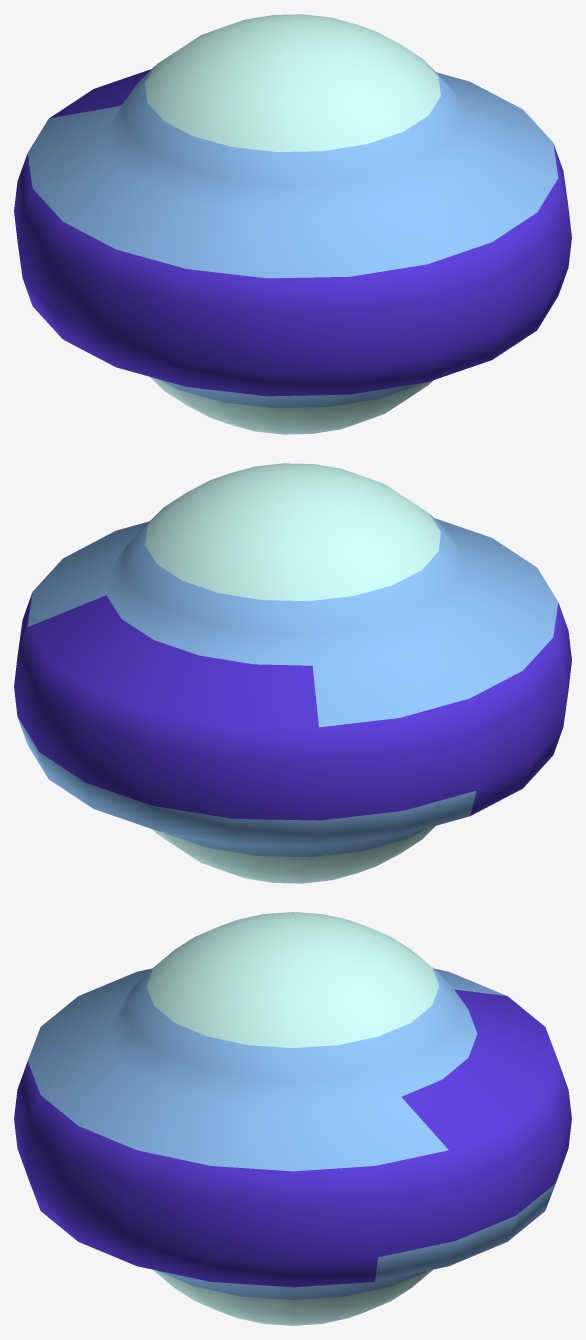
File: explosion.fbx
The picture shows the model from 3 angles, top to bottom: view 1: azimuth 30°, elevation 25°; view 2: azimuth 150°, elevation 25°; view 3: azimuth 270°, elevation 25°; orthographic projection.
Visible parts, largest first — view 1: pSphere1; view 2: pSphere1; view 3: pSphere1.
Boxes of the visible parts, <box> form: pSphere1: <box>14,14,571,434</box>; pSphere1: <box>14,463,571,883</box>; pSphere1: <box>14,912,571,1325</box>.
Size of the model in its own units: 7.1 by 5.35 by 7.21.
